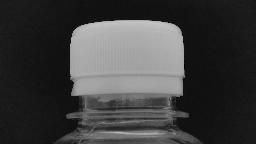Loose Cap: (59, 72, 199, 124)
